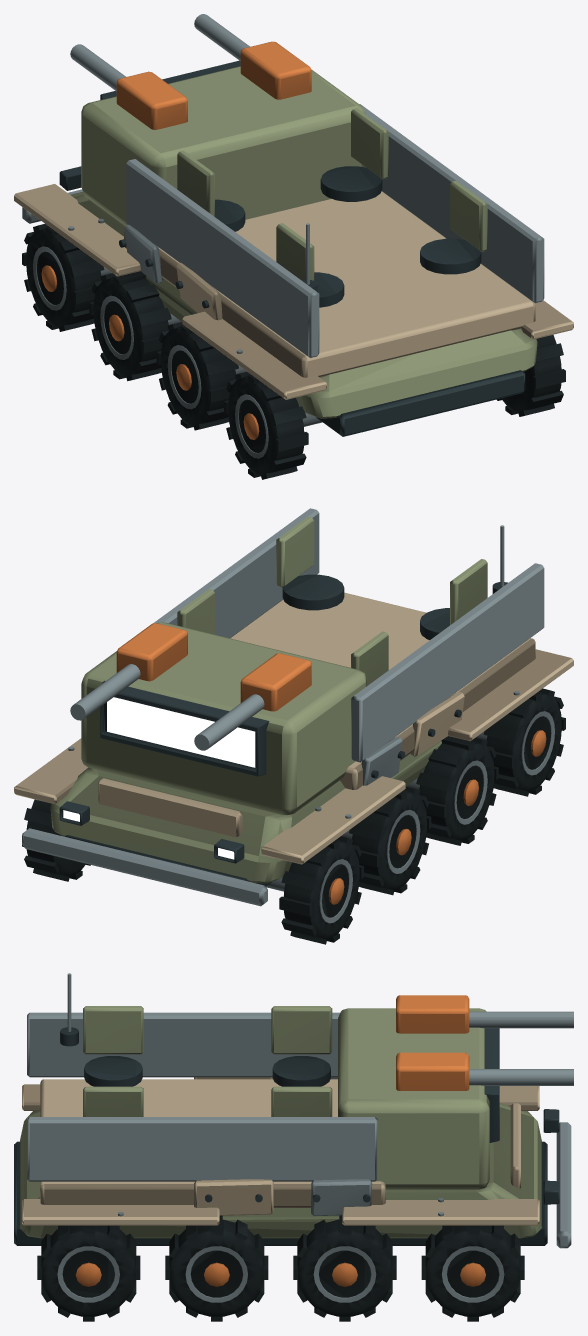
File: BattleRig.glb
3 views of the same model, one above another, from view 1: azimuth 30°, elevation 25°; view 2: azimuth 150°, elevation 25°; view 3: azimuth 270°, elevation 25° (orthographic). The views are drawn at different scales.
Parts seen in each view (by area): view 1: export_BattleRig_Axle, export_BattleRig_Wheel_-1.35_0.61_Tire, export_BattleRig_Wheel_-1.35_-1.84_Tire, export_BattleRig_Wheel_-1.35_-0.61_Tire, export_BattleRig_Wheel_-1.35_1.84_Tire, export_BattleRig_AutocannonBreech.001, export_BattleRig_AutocannonBreech, export_BattleRig_FiringRing.002, export_BattleRig_FiringRing.003, export_BattleRig_Wheel_1.35_-1.84_Tire, export_BattleRig_FiringRing.001, export_BattleRig_FiringRing (+2 smaller); view 2: export_BattleRig_Axle, export_BattleRig_Wheel_-1.35_-0.61_Tire, export_BattleRig_Wheel_-1.35_1.84_Tire, export_BattleRig_Wheel_-1.35_0.61_Tire, export_BattleRig_Wheel_-1.35_-1.84_Tire, export_BattleRig_SalvagePlate2, export_BattleRig_AutocannonBreech.001, export_BattleRig_AutocannonBreech, export_BattleRig_FiringRing.002, export_BattleRig_FiringRing, export_BattleRig_Wheel_1.35_1.84_Tire, export_BattleRig_SalvagePlate1 (+2 smaller); view 3: export_BattleRig_Axle, export_BattleRig_Wheel_1.35_0.61_Tire, export_BattleRig_Wheel_1.35_-0.61_Tire, export_BattleRig_Wheel_1.35_1.84_Tire, export_BattleRig_Wheel_1.35_-1.84_Tire, export_BattleRig_AutocannonBreech, export_BattleRig_FiringRing.001, export_BattleRig_AutocannonBreech.001, export_BattleRig_FiringRing, export_BattleRig_SalvagePlate1, export_BattleRig_SalvagePlate2, export_BattleRig_FiringRing.003 (+1 smaller).
Boxes of the visible parts, left/top/right/bottom form: export_BattleRig_Axle: left=14, top=60, right=573, bottom=436; export_BattleRig_Wheel_-1.35_0.61_Tire: left=89, top=271, right=171, bottom=381; export_BattleRig_Wheel_-1.35_-1.84_Tire: left=224, top=372, right=308, bottom=479; export_BattleRig_Wheel_-1.35_-0.61_Tire: left=156, top=322, right=238, bottom=430; export_BattleRig_Wheel_-1.35_1.84_Tire: left=22, top=224, right=104, bottom=331; export_BattleRig_AutocannonBreech.001: left=194, top=14, right=311, bottom=99; export_BattleRig_AutocannonBreech: left=70, top=44, right=187, bottom=129; export_BattleRig_FiringRing.002: left=420, top=180, right=487, bottom=274; export_BattleRig_FiringRing.003: left=320, top=108, right=388, bottom=201; export_BattleRig_Wheel_1.35_-1.84_Tire: left=496, top=335, right=565, bottom=416; export_BattleRig_FiringRing.001: left=177, top=150, right=245, bottom=231; export_BattleRig_FiringRing: left=276, top=223, right=344, bottom=307; export_BattleRig_Axle: left=14, top=508, right=573, bottom=906; export_BattleRig_Wheel_-1.35_-0.61_Tire: left=416, top=736, right=498, bottom=845; export_BattleRig_Wheel_-1.35_1.84_Tire: left=279, top=836, right=363, bottom=944; export_BattleRig_Wheel_-1.35_0.61_Tire: left=349, top=786, right=431, bottom=895; export_BattleRig_Wheel_-1.35_-1.84_Tire: left=483, top=688, right=565, bottom=796; export_BattleRig_SalvagePlate2: left=98, top=736, right=405, bottom=837; export_BattleRig_AutocannonBreech.001: left=70, top=623, right=187, bottom=720; export_BattleRig_AutocannonBreech: left=194, top=653, right=311, bottom=750; export_BattleRig_FiringRing.002: left=276, top=516, right=344, bottom=610; export_BattleRig_FiringRing: left=420, top=559, right=487, bottom=639; export_BattleRig_Wheel_1.35_1.84_Tire: left=22, top=799, right=90, bottom=881; export_BattleRig_SalvagePlate1: left=410, top=691, right=464, bottom=756; export_BattleRig_Axle: left=14, top=1008, right=571, bottom=1248; export_BattleRig_Wheel_1.35_0.61_Tire: left=293, top=1215, right=396, bottom=1321; export_BattleRig_Wheel_1.35_-0.61_Tire: left=165, top=1215, right=268, bottom=1321; export_BattleRig_Wheel_1.35_1.84_Tire: left=421, top=1225, right=524, bottom=1321; export_BattleRig_Wheel_1.35_-1.84_Tire: left=37, top=1225, right=140, bottom=1321; export_BattleRig_AutocannonBreech: left=396, top=995, right=573, bottom=1033; export_BattleRig_FiringRing.001: left=271, top=1006, right=332, bottom=1086; export_BattleRig_AutocannonBreech.001: left=396, top=1052, right=573, bottom=1090; export_BattleRig_FiringRing: left=83, top=1006, right=143, bottom=1086; export_BattleRig_SalvagePlate1: left=194, top=1077, right=273, bottom=1215; export_BattleRig_SalvagePlate2: left=311, top=1077, right=520, bottom=1216; export_BattleRig_FiringRing.003: left=271, top=1086, right=332, bottom=1116.
Bounding box in the file's own units: 3.08 × 2.48 × 5.35.
